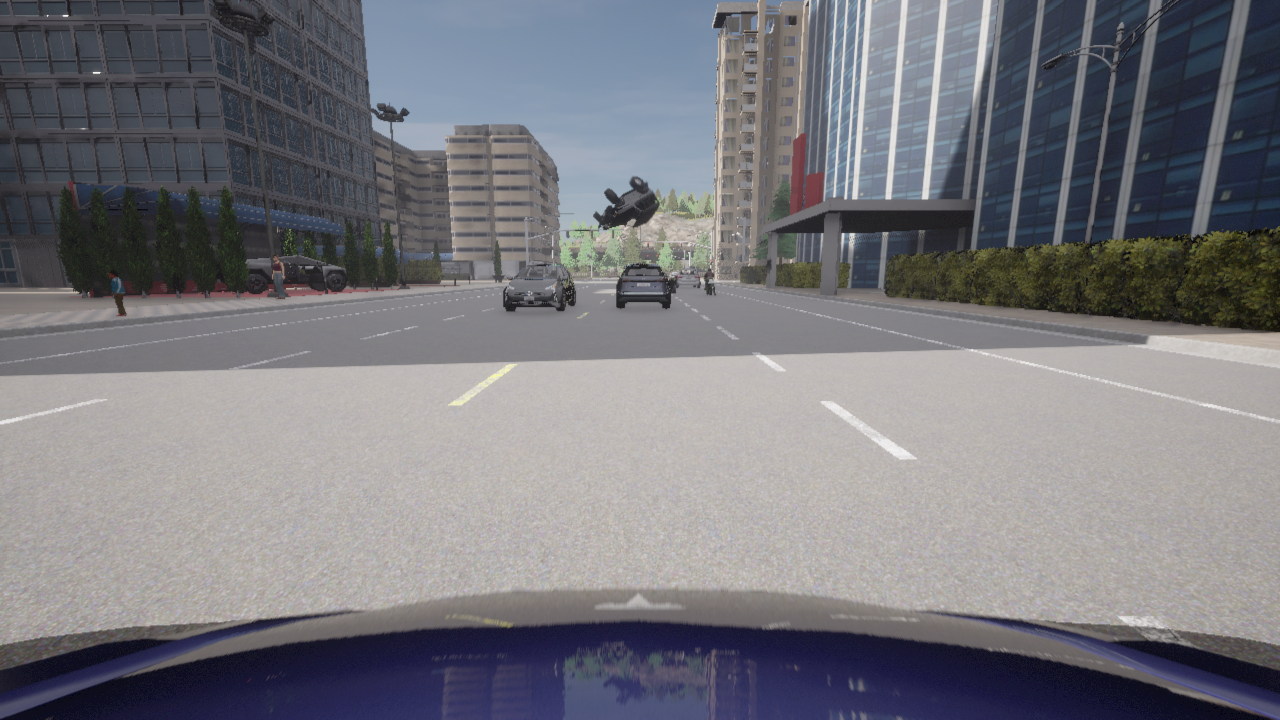cyclist: (0, 588, 1279, 719), (215, 255, 348, 293), (593, 176, 659, 230), (503, 265, 575, 311), (616, 262, 670, 308), (673, 269, 700, 287), (701, 276, 714, 295), (664, 273, 676, 293), (297, 257, 315, 264), (279, 257, 295, 263), (670, 272, 676, 278), (319, 263, 328, 265)
pedestrian: (108, 271, 126, 316), (272, 255, 285, 298)
